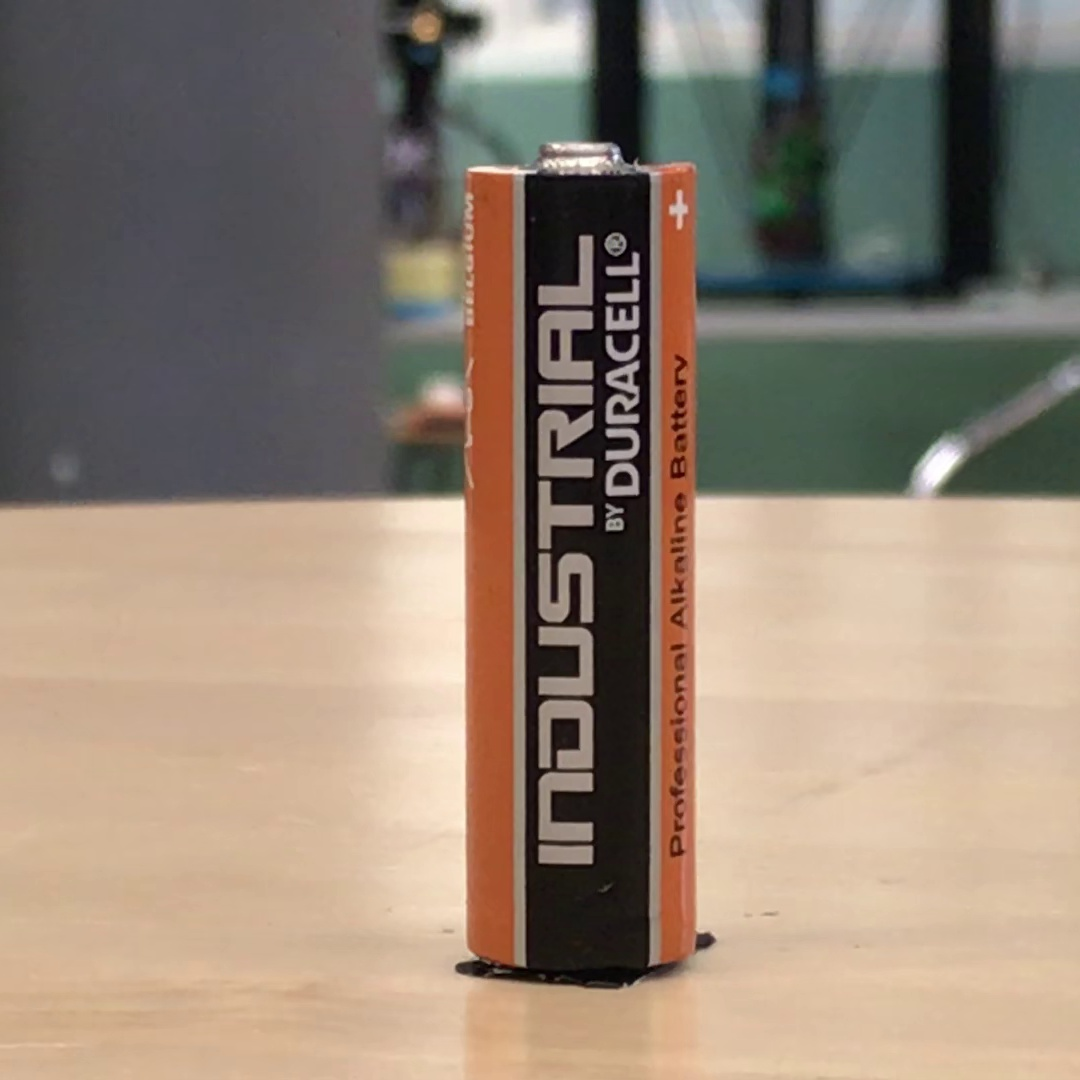keyword: (665, 483, 694, 637)
